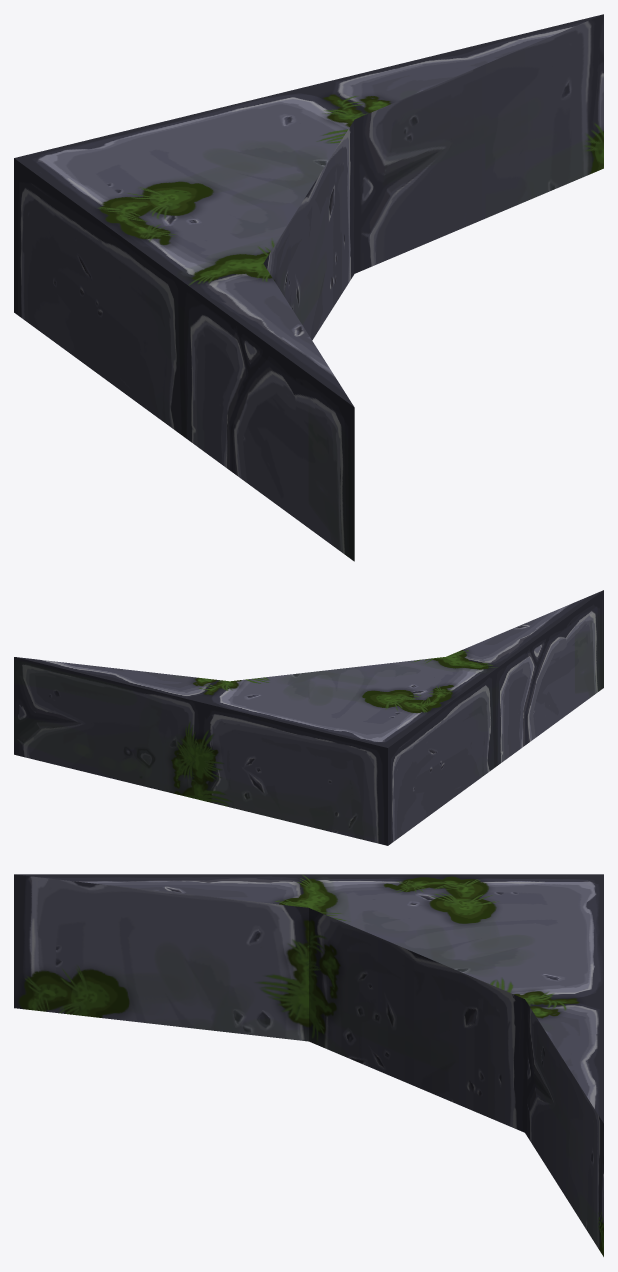
File: MOD_Floor_01_E_concave_tiny.fbx
3 views of the same model, one above another, from view 1: azimuth 30°, elevation 25°; view 2: azimuth 150°, elevation 25°; view 3: azimuth 270°, elevation 25° (orthographic). The views are drawn at different scales.
Visible parts, largest first — view 1: MOD_Floor_01_E_concave_tiny; view 2: MOD_Floor_01_E_concave_tiny; view 3: MOD_Floor_01_E_concave_tiny.
Part boxes in pixels (left/top/right/bottom): MOD_Floor_01_E_concave_tiny: left=14, top=14, right=603, bottom=561; MOD_Floor_01_E_concave_tiny: left=14, top=590, right=603, bottom=845; MOD_Floor_01_E_concave_tiny: left=14, top=874, right=603, bottom=1256.
Size of the model in its own units: 200 by 50 by 200.
